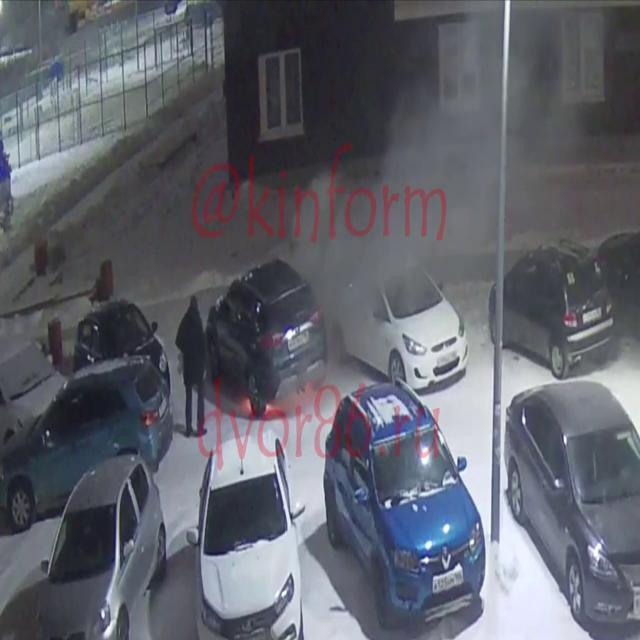Smoke: (305, 0, 605, 364)
